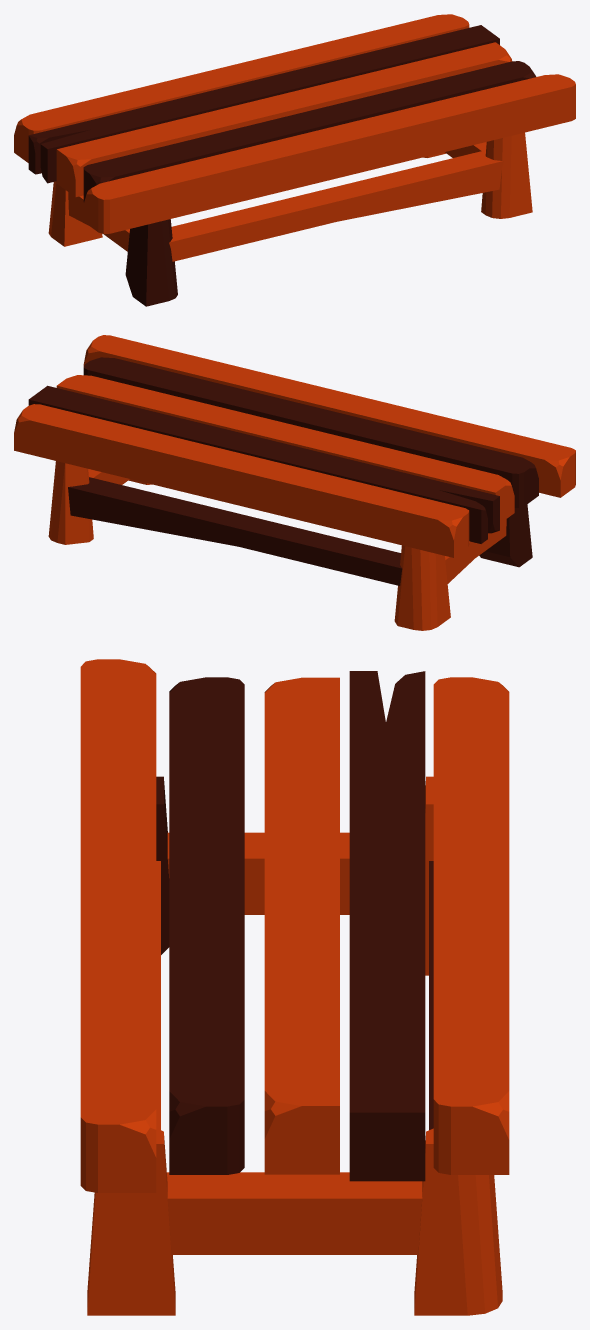
Rendered from table.obj.
3 renders of one model, top to bottom at view 1: azimuth 30°, elevation 25°; view 2: azimuth 150°, elevation 25°; view 3: azimuth 270°, elevation 25°, orthographic. The views are drawn at different scales.
Visible parts, largest first — view 1: table.001; view 2: table.001; view 3: table.001.
Part boxes in pixels (x1=…): table.001: x1=14, y1=14, x2=575, y2=306; table.001: x1=14, y1=335, x2=575, y2=630; table.001: x1=80, y1=659, x2=509, y2=1315.
Size of the model in its own units: 5.23 by 1.23 by 2.03.
